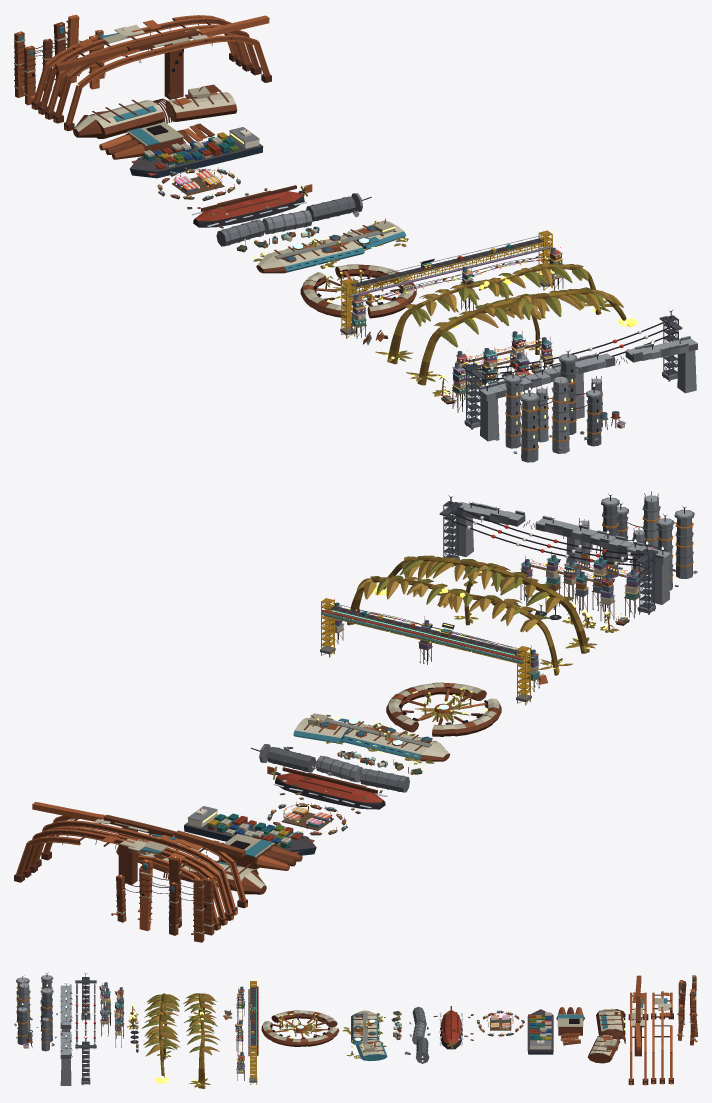
The model's file is set_halcyon.glb.
3 views of the same model, one above another, from view 1: azimuth 30°, elevation 25°; view 2: azimuth 150°, elevation 25°; view 3: azimuth 270°, elevation 25° (orthographic). The views are drawn at different scales.
Parts seen in each view (by area): view 1: halcyon_ark_ribs_1.001, halcyon_storm_pylons_1.001, halcyon_kelp_arch_1.001, halcyon_ark_wreck_0.001, halcyon_ark_ribs_0.001, halcyon_gantry_0.001, halcyon_kelp_arch_0.001, halcyon_drowned_ark_0.001, halcyon_storm_towers_1.001, halcyon_barge_0.001, halcyon_drowned_ark_1.001, halcyon_storm_towers_0.001 (+10 smaller); view 2: halcyon_ark_ribs_1.001, halcyon_storm_pylons_1.001, halcyon_gantry_0.001, halcyon_kelp_arch_1.001, halcyon_ark_ribs_0.001, halcyon_drowned_ark_1.001, halcyon_drowned_ark_0.001, halcyon_kelp_arch_0.001, halcyon_storm_pylons_0.001, halcyon_barge_0.001, halcyon_capsized_hulk_0.001, halcyon_ark_fins_0.001 (+10 smaller); view 3: halcyon_drowned_ark_1.001, halcyon_kelp_arch_1.001, halcyon_kelp_arch_0.001, halcyon_drowned_ark_0.001, halcyon_ark_wreck_0.001, halcyon_ark_ribs_1.001, halcyon_storm_pylons_1.001, halcyon_ark_ribs_0.001, halcyon_barge_0.001, halcyon_storm_pylons_0.001, halcyon_gantry_0.001, halcyon_storm_towers_0.001 (+10 smaller).
Part boxes in pixels (x1=…): halcyon_ark_ribs_1.001: x1=53, y1=15, x2=271, y2=131; halcyon_storm_pylons_1.001: x1=478, y1=335, x2=697, y2=441; halcyon_kelp_arch_1.001: x1=406, y1=287, x2=637, y2=385; halcyon_ark_wreck_0.001: x1=73, y1=84, x2=237, y2=138; halcyon_ark_ribs_0.001: x1=31, y1=15, x2=252, y2=119; halcyon_gantry_0.001: x1=340, y1=230, x2=553, y2=338; halcyon_kelp_arch_0.001: x1=375, y1=263, x2=612, y2=364; halcyon_drowned_ark_0.001: x1=253, y1=218, x2=408, y2=273; halcyon_storm_towers_1.001: x1=513, y1=373, x2=602, y2=462; halcyon_barge_0.001: x1=129, y1=127, x2=263, y2=178; halcyon_drowned_ark_1.001: x1=300, y1=264, x2=416, y2=318; halcyon_storm_towers_0.001: x1=494, y1=348, x2=602, y2=448; halcyon_ark_ribs_1.001: x1=32, y1=801, x2=247, y2=915; halcyon_storm_pylons_1.001: x1=454, y1=500, x2=671, y2=604; halcyon_gantry_0.001: x1=320, y1=598, x2=531, y2=705; halcyon_kelp_arch_1.001: x1=372, y1=555, x2=596, y2=653; halcyon_ark_ribs_0.001: x1=14, y1=826, x2=233, y2=930; halcyon_drowned_ark_1.001: x1=386, y1=682, x2=501, y2=736; halcyon_drowned_ark_0.001: x1=293, y1=713, x2=450, y2=765; halcyon_kelp_arch_0.001: x1=347, y1=575, x2=572, y2=675; halcyon_storm_pylons_0.001: x1=439, y1=493, x2=658, y2=614; halcyon_barge_0.001: x1=184, y1=806, x2=316, y2=855; halcyon_capsized_hulk_0.001: x1=267, y1=766, x2=387, y2=814; halcyon_ark_fins_0.001: x1=111, y1=859, x2=204, y2=942; halcyon_drowned_ark_1.001: x1=261, y1=1010, x2=339, y2=1046; halcyon_kelp_arch_1.001: x1=141, y1=993, x2=180, y2=1083; halcyon_kelp_arch_0.001: x1=183, y1=993, x2=220, y2=1088; halcyon_drowned_ark_0.001: x1=342, y1=1010, x2=387, y2=1061; halcyon_ark_wreck_0.001: x1=587, y1=1008, x2=625, y2=1063; halcyon_ark_ribs_1.001: x1=628, y1=975, x2=648, y2=1085; halcyon_storm_pylons_1.001: x1=60, y1=981, x2=72, y2=1085; halcyon_ark_ribs_0.001: x1=651, y1=991, x2=673, y2=1084; halcyon_barge_0.001: x1=527, y1=1009, x2=553, y2=1054; halcyon_storm_pylons_0.001: x1=75, y1=971, x2=96, y2=1085; halcyon_gantry_0.001: x1=248, y1=981, x2=258, y2=1084; halcyon_storm_towers_0.001: x1=36, y1=971, x2=57, y2=1051.
Bounding box in the file's own units: 100 × 35.29 × 384.
